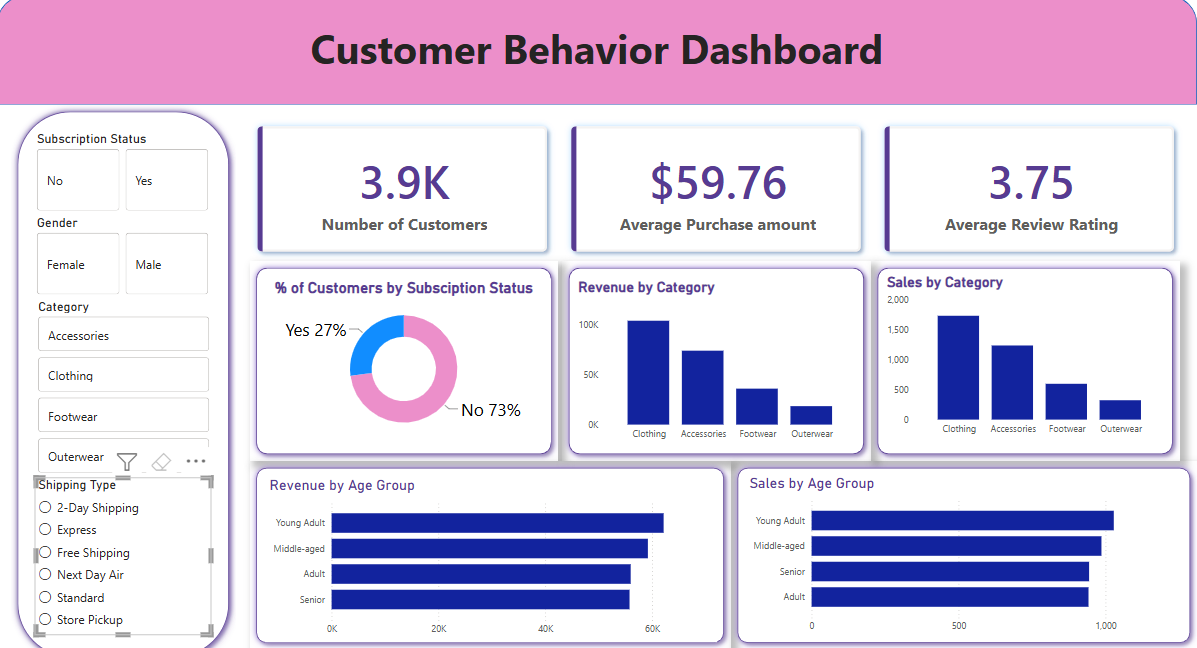

What the dashboard file says about the page in this screenshot:
{"tool":"powerbi","page":{"name":"Page 1","canvas":[1600,890],"ordinal":0},"visuals":[{"type":"cardVisual","fields":{"Data":["public customer.Number of Customers","public customer.Average Purchase amount","public customer.Average Review Rating"]},"box":[318.3,145,1281.7,225],"z":0},{"type":"shape","box":[0,0,1600,145],"z":1000},{"type":"textbox","box":[100,28.3,1400,90],"z":2000},{"type":"shape","box":[336.7,353.3,411.7,266.7],"z":3000},{"type":"donutChart","title":"% of Customers by Subsciption Status","fields":{"Category":["public customer.subscription_status"],"Y":["CountNonNull(public customer.customer_id)"]},"box":[346.7,376.7,391.7,218.3],"z":4000},{"type":"shape","box":[753.3,353.3,411.7,266.7],"z":5000},{"type":"shape","box":[1165,353.3,411.7,266.7],"z":6000},{"type":"clusteredColumnChart","title":"Revenue by Category","fields":{"Y":["Sum(public customer.purchase_amount)"],"Category":["public customer.category"]},"box":[770,376.7,380,225],"z":6001},{"type":"clusteredColumnChart","title":"Sales by Category","fields":{"Category":["public customer.category"],"Y":["CountNonNull(public customer.customer_id)"]},"box":[1181.7,370,380,225],"z":6002},{"type":"shape","box":[18.3,145,300,745],"z":6003},{"type":"advancedSlicerVisual","fields":{"Values":["public customer.subscription_status"]},"box":[48.3,180,238.3,111.7],"z":6004},{"type":"advancedSlicerVisual","fields":{"Values":["public customer.gender"]},"box":[48.3,291.7,238.3,111.7],"z":6005},{"type":"advancedSlicerVisual","fields":{"Values":["public customer.category"]},"box":[50,403.3,238.3,238.3],"z":6006},{"type":"listSlicer","fields":{"Values":["public customer.shipping_type"]},"box":[50,641.7,236.7,211.7],"z":6007},{"type":"shape","box":[336.7,620,641.7,251.7],"z":6009},{"type":"shape","box":[978.3,620,621.7,251.7],"z":6010},{"type":"clusteredBarChart","title":"Sales by Age Group","fields":{"Y":["CountNonNull(public customer.customer_id)"],"Category":["public customer.age_group"]},"box":[998.3,638.3,578.3,220],"z":6011},{"type":"clusteredBarChart","title":"Revenue by Age Group","fields":{"Y":["Sum(public customer.purchase_amount)"],"Category":["public customer.age_group"]},"box":[358.3,641.7,601.7,220],"z":6012}]}

Visuals, with their boxes in screenshot pixels (x1, y1, x2, y2), scaled from the page's 1600x890 canvas onto the 1197x648 screenshot:
cardVisual - public customer.Number of Customers x public customer.Average Purchase amount: x1=238 y1=106 x2=1196 y2=269
shape: x1=0 y1=0 x2=1196 y2=106
textbox: x1=75 y1=21 x2=1122 y2=86
shape: x1=252 y1=257 x2=560 y2=451
"% of Customers by Subsciption Status" donutChart: x1=259 y1=274 x2=552 y2=433
shape: x1=564 y1=257 x2=872 y2=451
shape: x1=872 y1=257 x2=1180 y2=451
"Revenue by Category" clusteredColumnChart: x1=576 y1=274 x2=860 y2=438
"Sales by Category" clusteredColumnChart: x1=884 y1=269 x2=1168 y2=433
shape: x1=14 y1=106 x2=238 y2=647
advancedSlicerVisual - public customer.subscription_status: x1=36 y1=131 x2=214 y2=212
advancedSlicerVisual - public customer.gender: x1=36 y1=212 x2=214 y2=294
advancedSlicerVisual - public customer.category: x1=37 y1=294 x2=216 y2=467
listSlicer - public customer.shipping_type: x1=37 y1=467 x2=214 y2=621
shape: x1=252 y1=451 x2=732 y2=635
shape: x1=732 y1=451 x2=1196 y2=635
"Sales by Age Group" clusteredBarChart: x1=747 y1=465 x2=1179 y2=625
"Revenue by Age Group" clusteredBarChart: x1=268 y1=467 x2=718 y2=627
